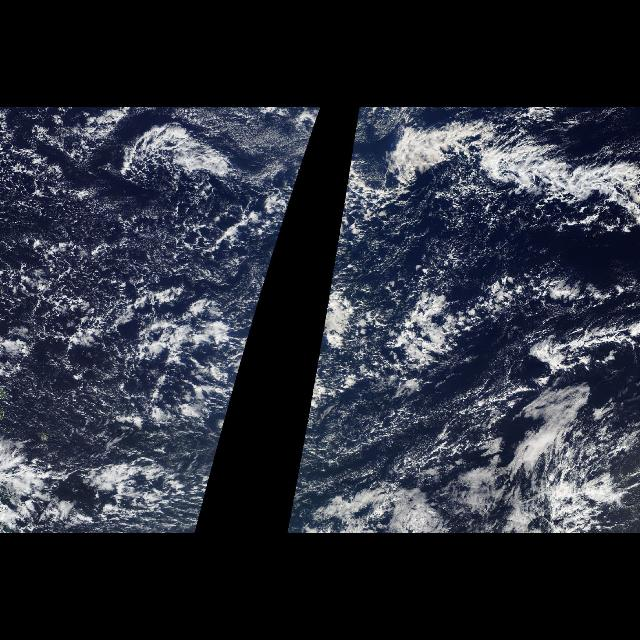Fish: (308, 260, 604, 412), (346, 120, 640, 236), (176, 260, 272, 412)
Gravel: (1, 168, 300, 466), (298, 178, 486, 466)
